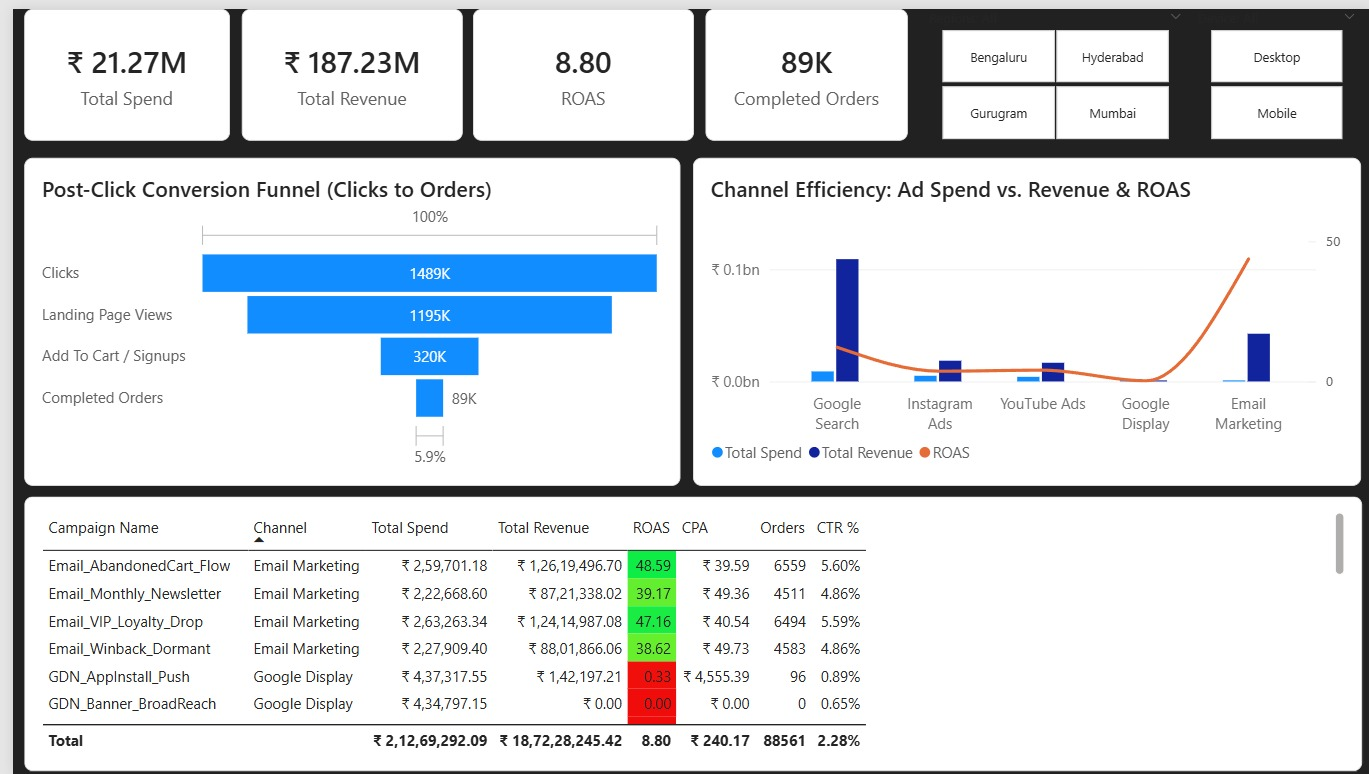

This screenshot's page, from the dashboard's own definition file:
{"tool":"powerbi","page":{"name":"Executive ROI & Funnel Overview","canvas":[1280,720],"ordinal":0},"visuals":[{"type":"card","fields":{"Values":["ad_campaign_funnel_dataset_12k.Total Spend"]},"box":[10.1,0,193.3,124.1],"z":0},{"type":"card","fields":{"Values":["ad_campaign_funnel_dataset_12k.Total Revenue"]},"box":[215,0,207.8,124.1],"z":1},{"type":"card","fields":{"Values":["ad_campaign_funnel_dataset_12k.ROAS"]},"box":[432.8,0,207.8,124.1],"z":2},{"type":"card","fields":{"Values":["Sum(ad_campaign_funnel_dataset_12k.completed_orders)"]},"box":[652.1,0,190.4,124.1],"z":3},{"type":"funnel","title":"Post-Click Conversion Funnel (Clicks to Orders)","fields":{"Y":["Sum(ad_campaign_funnel_dataset_12k.clicks)","Sum(ad_campaign_funnel_dataset_12k.landing_page_views)","Sum(ad_campaign_funnel_dataset_12k.add_to_cart_signups)","Sum(ad_campaign_funnel_dataset_12k.completed_orders)"]},"box":[10.1,139.9,617.5,308.8],"z":4},{"type":"lineClusteredColumnComboChart","title":"Channel Efficiency: Ad Spend vs. Revenue & ROAS","fields":{"Category":["ad_campaign_funnel_dataset_12k.channel"],"Y":["ad_campaign_funnel_dataset_12k.Total Spend","ad_campaign_funnel_dataset_12k.Total Revenue"],"Y2":["ad_campaign_funnel_dataset_12k.ROAS"]},"box":[640.6,139.9,629,308.8],"z":5},{"type":"tableEx","fields":{"Values":["ad_campaign_funnel_dataset_12k.campaign_name","ad_campaign_funnel_dataset_12k.channel","ad_campaign_funnel_dataset_12k.Total Spend","ad_campaign_funnel_dataset_12k.Total Revenue","ad_campaign_funnel_dataset_12k.ROAS","ad_campaign_funnel_dataset_12k.CPA","Sum(ad_campaign_funnel_dataset_12k.completed_orders)","ad_campaign_funnel_dataset_12k.CTR %"]},"box":[10.1,458.8,1259.5,258.3],"z":6},{"type":"slicer","fields":{"Values":["ad_campaign_funnel_dataset_12k.target_region"]},"box":[854.1,0,252.5,124.1],"z":7},{"type":"slicer","fields":{"Values":["ad_campaign_funnel_dataset_12k.device_type"]},"box":[1106.6,0,163,124.1],"z":8}]}

Visuals, with their boxes in screenshot pixels (x1, y1, x2, y2), scaled from the page's 1280x720 canvas onto the 1369x774 screenshot:
card - ad_campaign_funnel_dataset_12k.Total Spend: 11 0 218 133
card - ad_campaign_funnel_dataset_12k.Total Revenue: 230 0 452 133
card - ad_campaign_funnel_dataset_12k.ROAS: 463 0 685 133
card - Sum(ad_campaign_funnel_dataset_12k.completed_orders): 697 0 901 133
"Post-Click Conversion Funnel (Clicks to Orders)" funnel: 11 150 671 482
"Channel Efficiency: Ad Spend vs. Revenue & ROAS" lineClusteredColumnComboChart: 685 150 1358 482
tableEx - ad_campaign_funnel_dataset_12k.campaign_name x ad_campaign_funnel_dataset_12k.channel: 11 493 1358 771
slicer - ad_campaign_funnel_dataset_12k.target_region: 913 0 1184 133
slicer - ad_campaign_funnel_dataset_12k.device_type: 1184 0 1358 133
